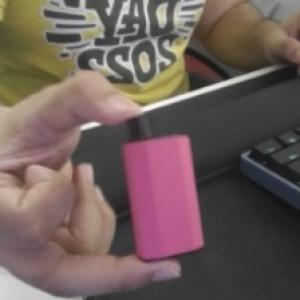Blume-E-Ciggirate: (121, 114, 206, 264)
